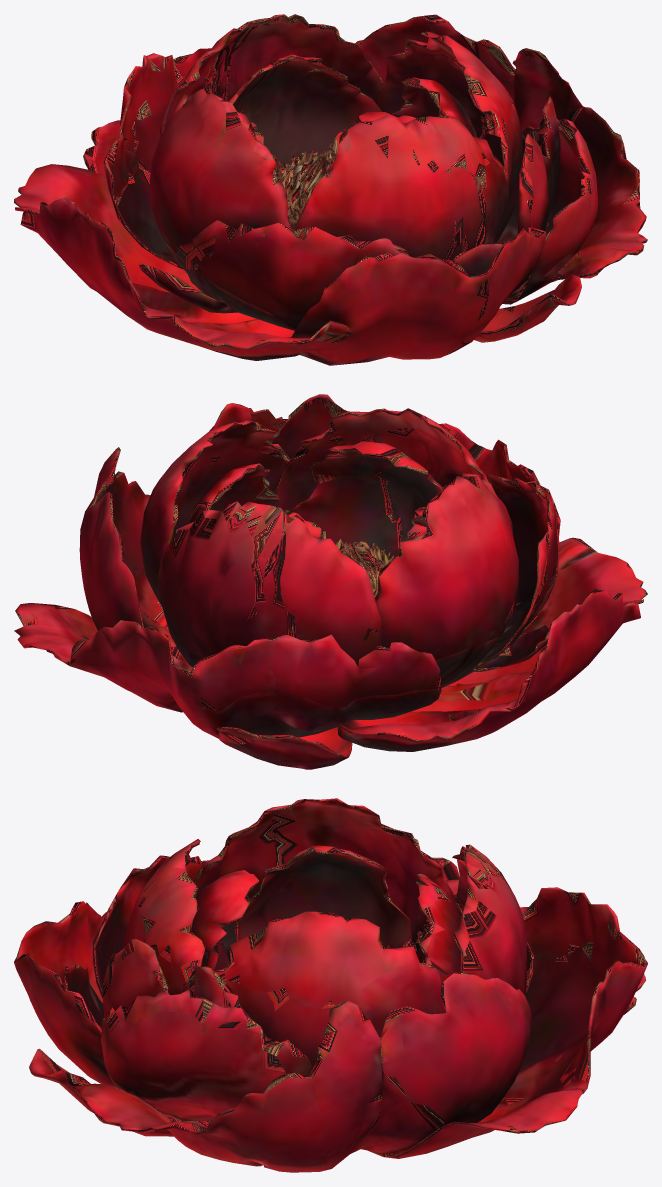
3 renders of one model, top to bottom at view 1: azimuth 30°, elevation 25°; view 2: azimuth 150°, elevation 25°; view 3: azimuth 270°, elevation 25°, orthographic. The views are drawn at different scales.
Bounding box in the file's own units: 1.92 × 0.8794 × 2.
1 material, 1 textured.
